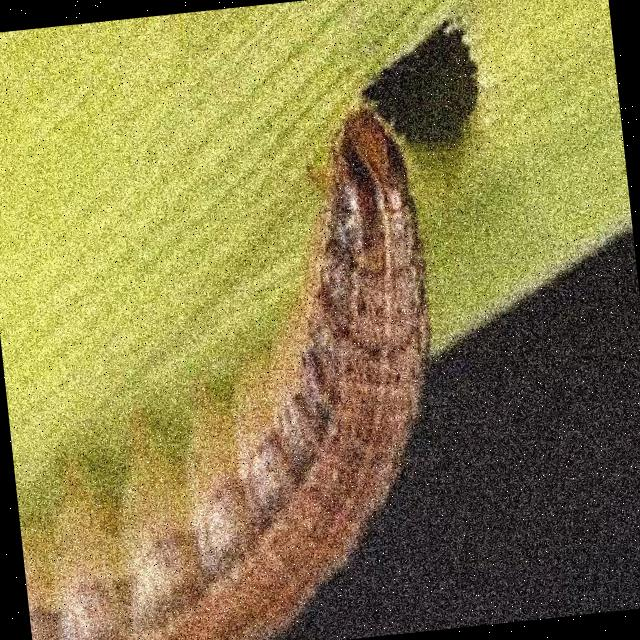worm: (1, 100, 468, 640)
